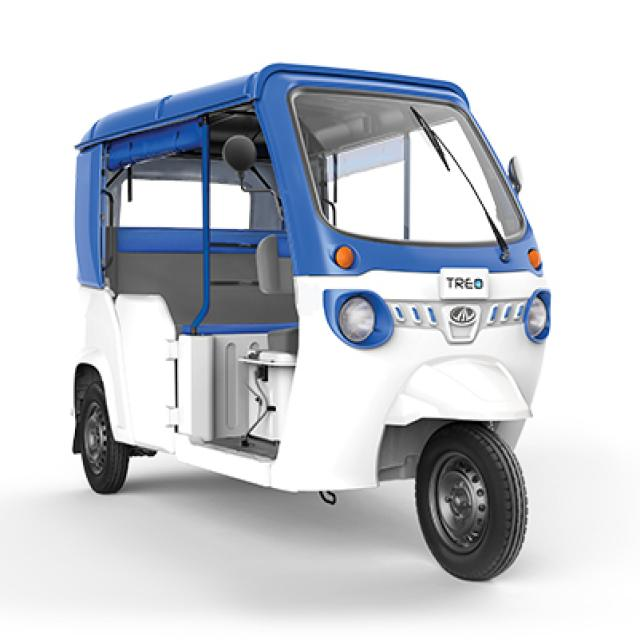autorickshaw: (74, 64, 550, 579)
